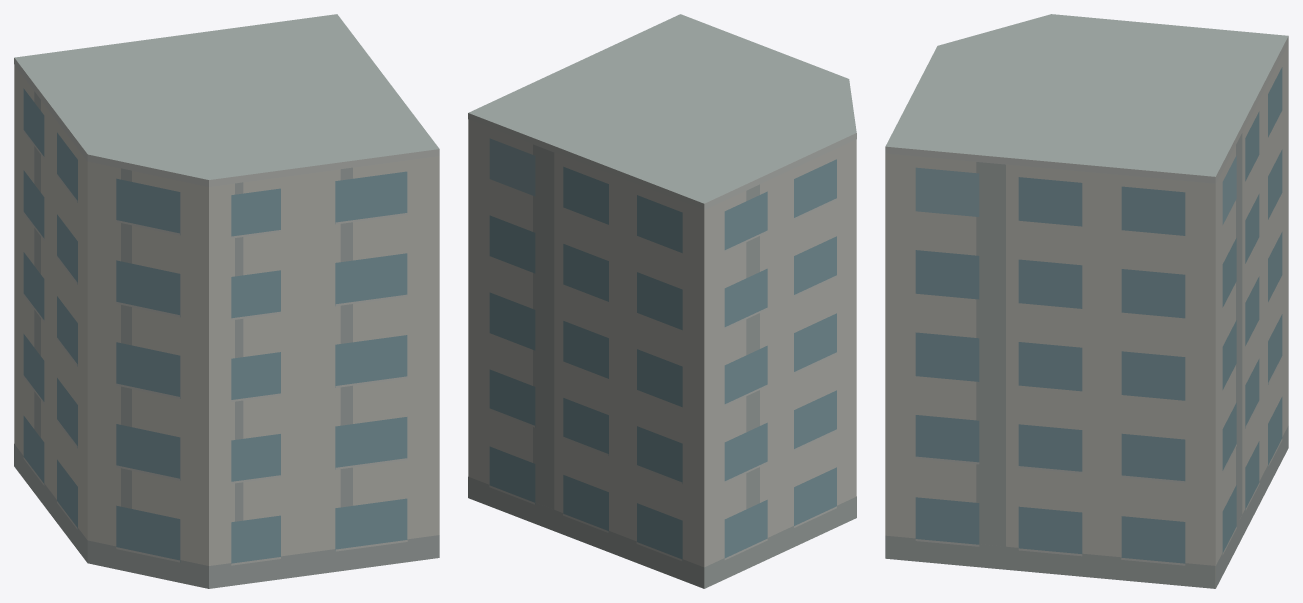
File: survey-upis-32562551.glb
3 renders of one model, left to right at view 1: azimuth 30°, elevation 25°; view 2: azimuth 150°, elevation 25°; view 3: azimuth 270°, elevation 25°, orthographic. The views are drawn at different scales.
Visible parts, largest first — view 1: survey-upis-32562551.tmp; view 2: survey-upis-32562551.tmp; view 3: survey-upis-32562551.tmp.
Boxes of the visible parts, x1=… form: survey-upis-32562551.tmp: x1=14, y1=14, x2=439, y2=588; survey-upis-32562551.tmp: x1=468, y1=14, x2=856, y2=588; survey-upis-32562551.tmp: x1=885, y1=14, x2=1288, y2=588.
Size of the model in its own units: 12.28 by 14.48 by 12.85.
